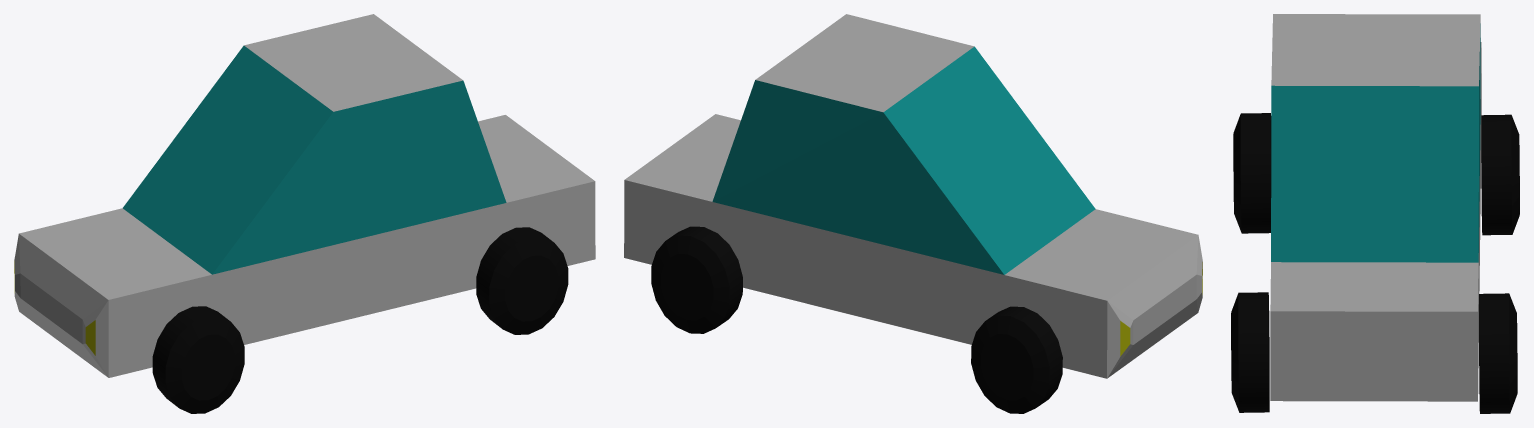
File: Enemy.fbx
3 views of the same model, side by side, from view 1: azimuth 30°, elevation 25°; view 2: azimuth 150°, elevation 25°; view 3: azimuth 270°, elevation 25° (orthographic). The views are drawn at different scales.
Parts seen in each view (by area): view 1: Enemy; view 2: Enemy; view 3: Enemy.
Part boxes in pixels (<box>): Enemy: <box>14,14,595,413</box>; Enemy: <box>624,14,1202,413</box>; Enemy: <box>1231,14,1519,413</box>.
Bounding box in the file's own units: 99.66 × 43.52 × 49.18.
